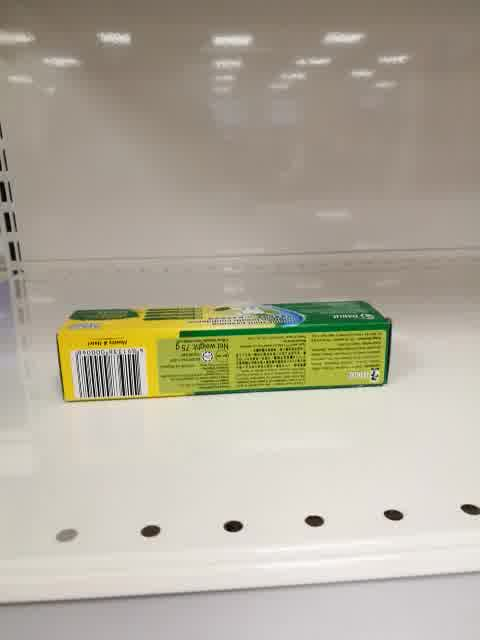toothpaste: (56, 299, 394, 403)
